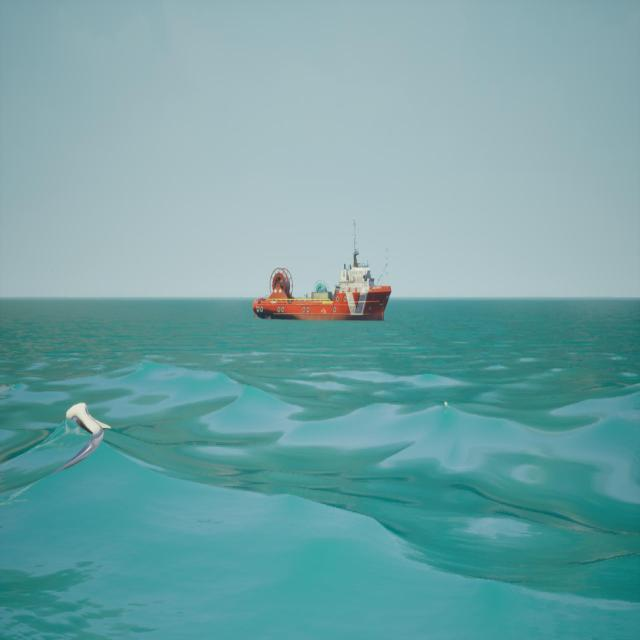tug boat: (256, 220, 394, 324)
